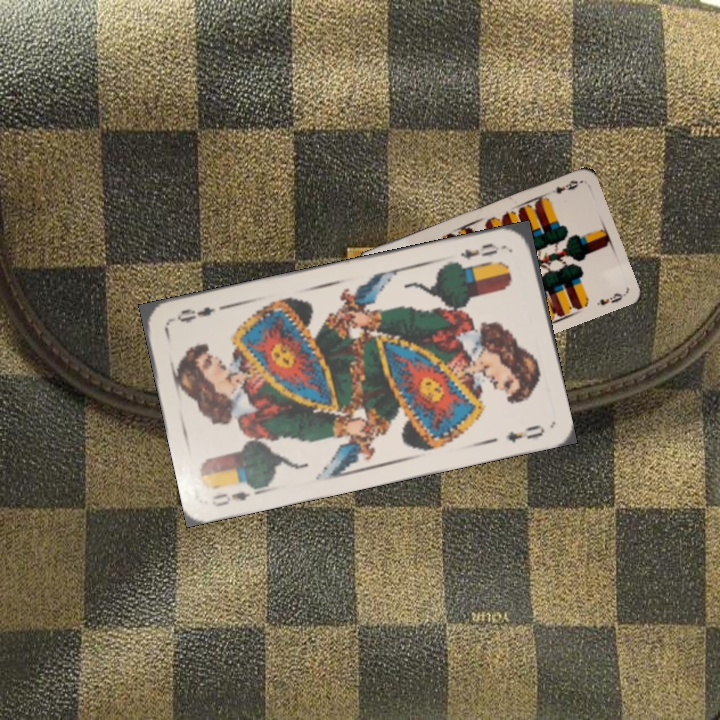E9: (548, 176, 583, 196)
EO: (207, 478, 265, 510), (456, 239, 508, 263)
